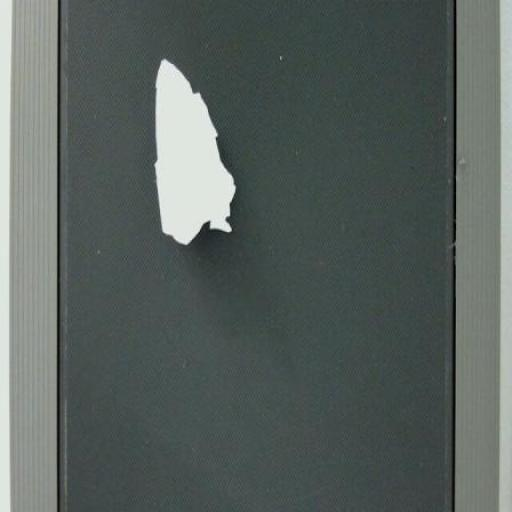paper: (124, 14, 281, 305)
